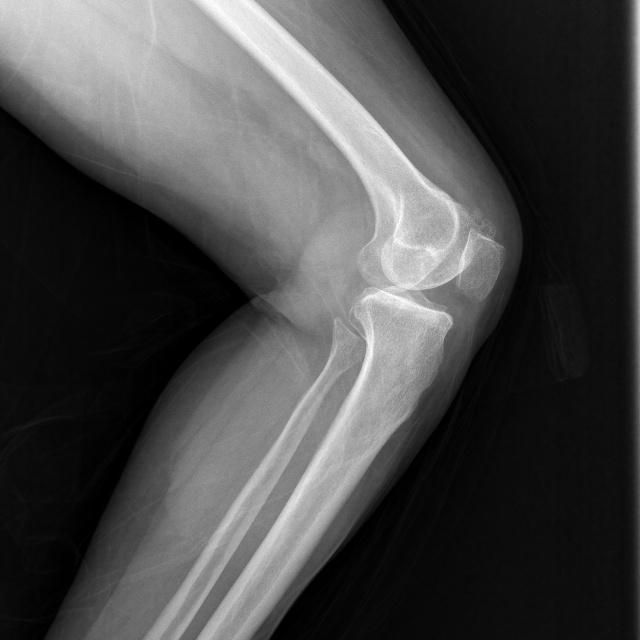Knee: (349, 204, 506, 354)
